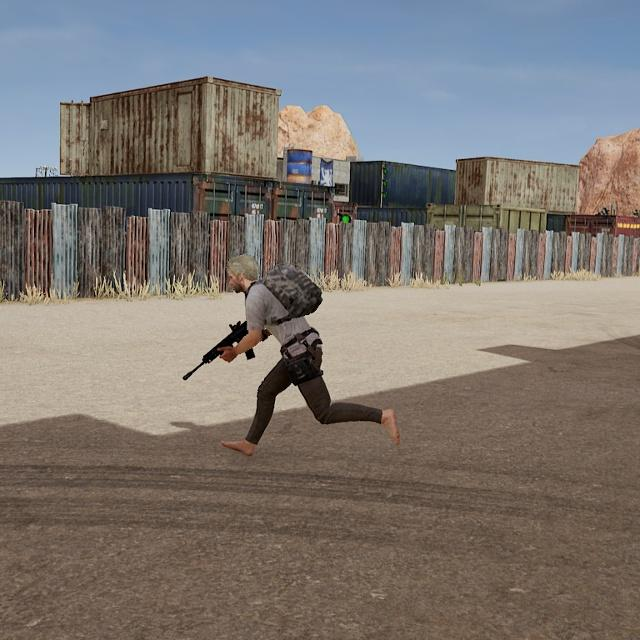head: (222, 253, 265, 301)
people: (213, 247, 404, 465)
